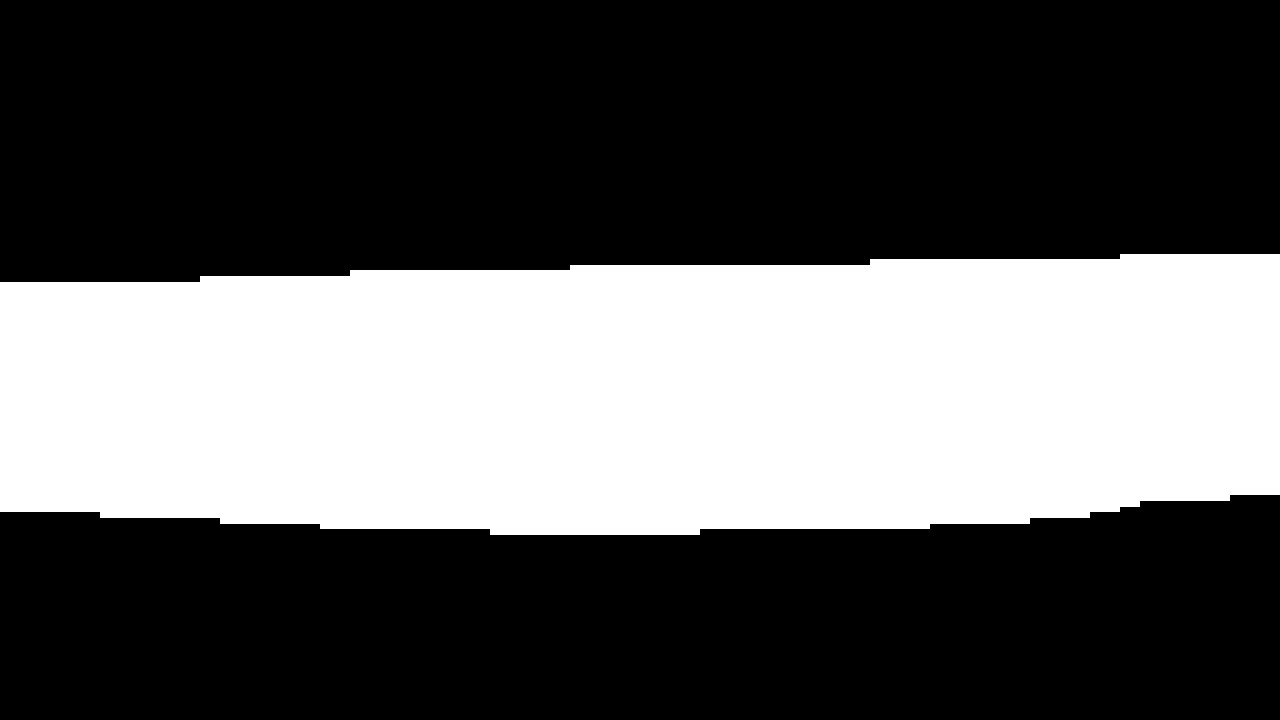Turbine: (14, 200, 1260, 537)
